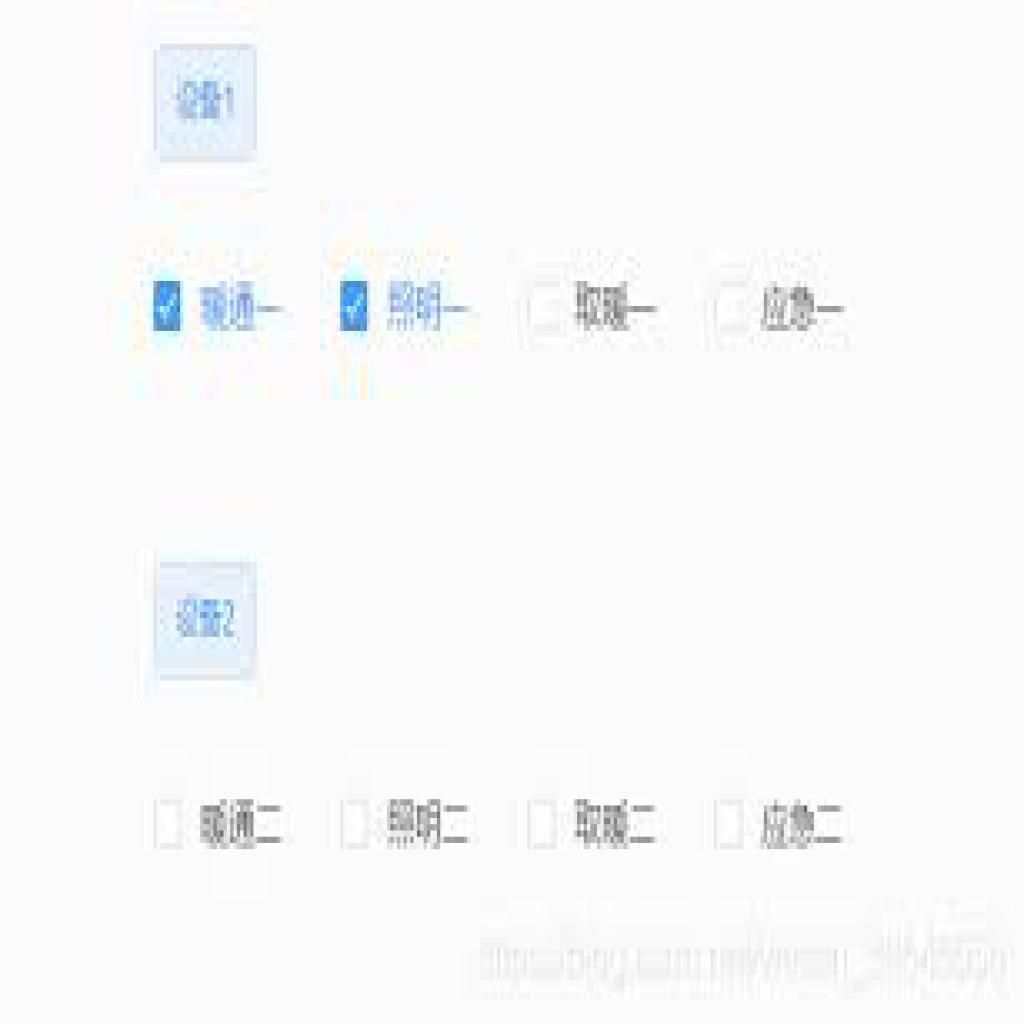checkbox: (712, 795, 749, 851), (150, 801, 186, 850), (341, 795, 374, 848), (528, 284, 564, 329), (339, 283, 370, 334), (527, 798, 557, 849), (155, 286, 183, 332), (720, 288, 750, 330)
icon: (170, 583, 247, 654), (176, 70, 245, 139)
